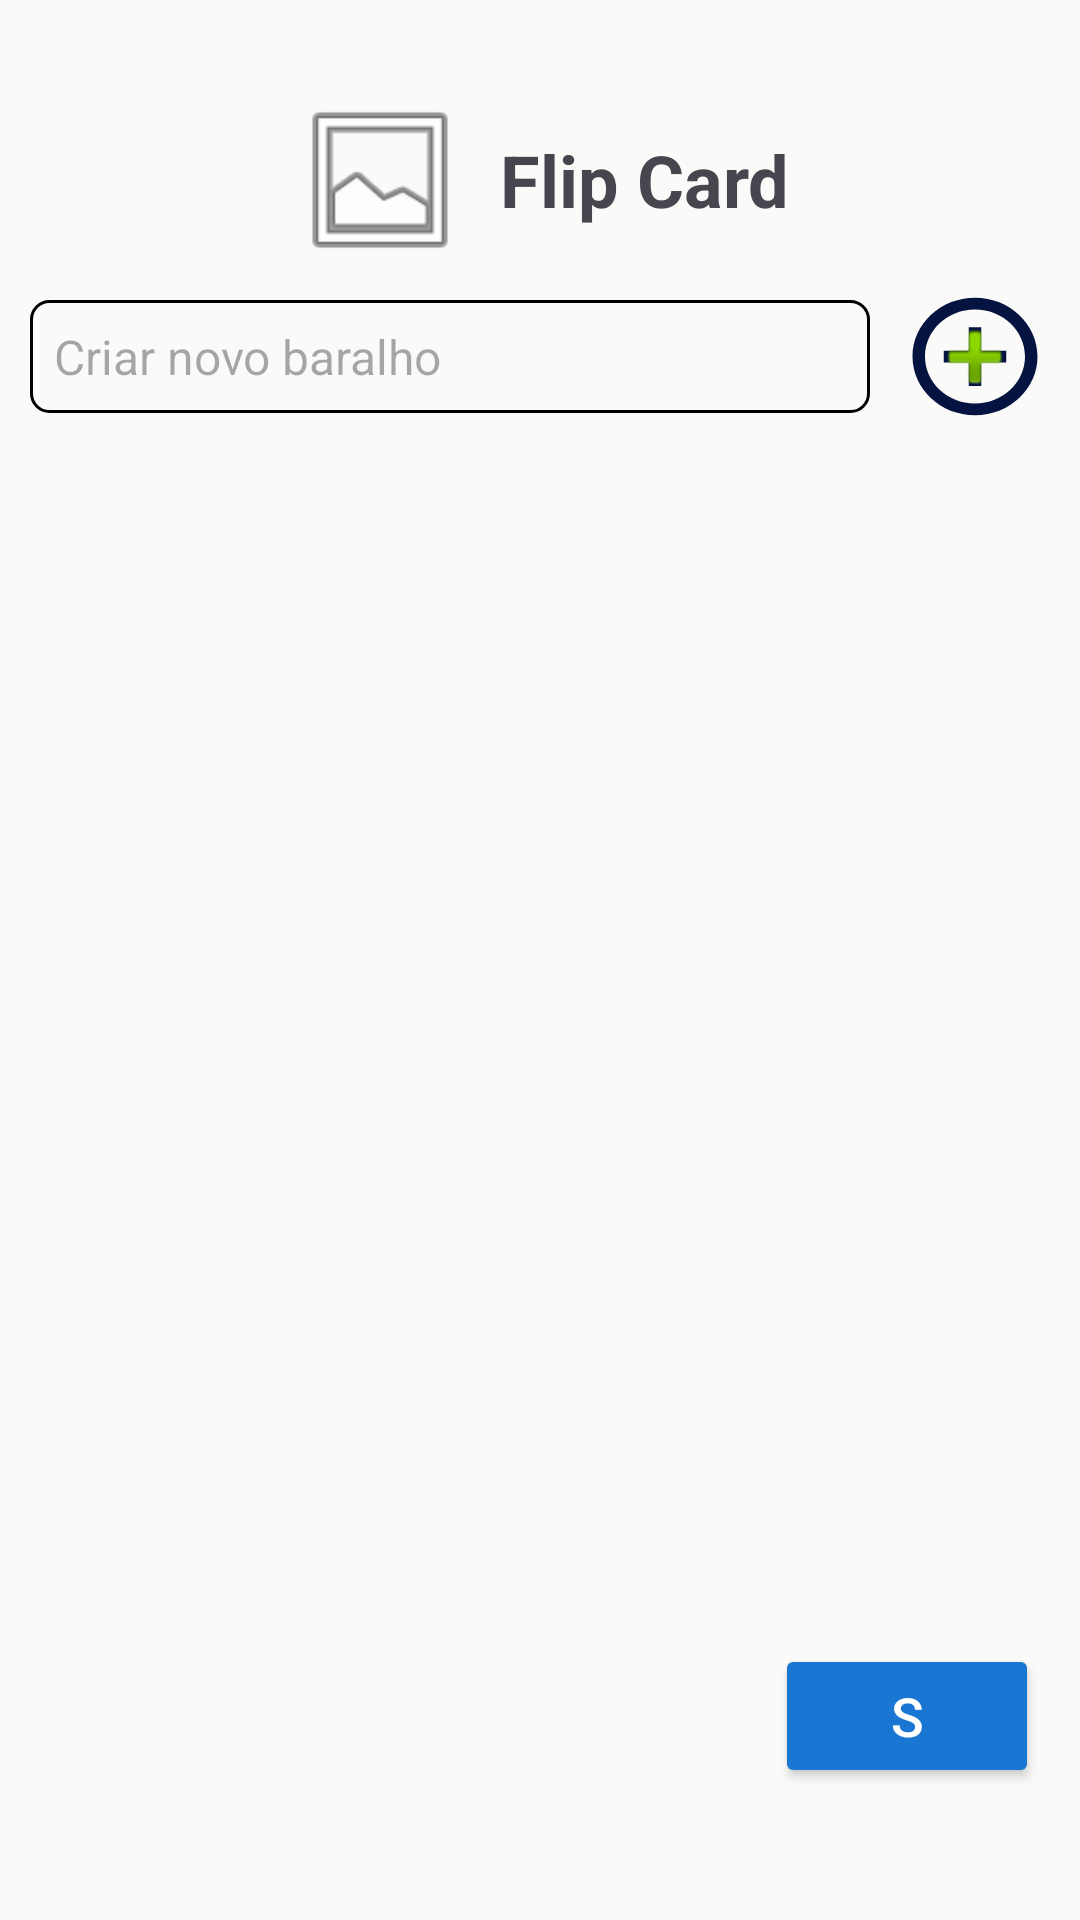

Point at icon controls on the screen. Image size 1080px×1920px, points as [x,y].
Adicionar baralho: [975,356]
gallery: [380,180]
